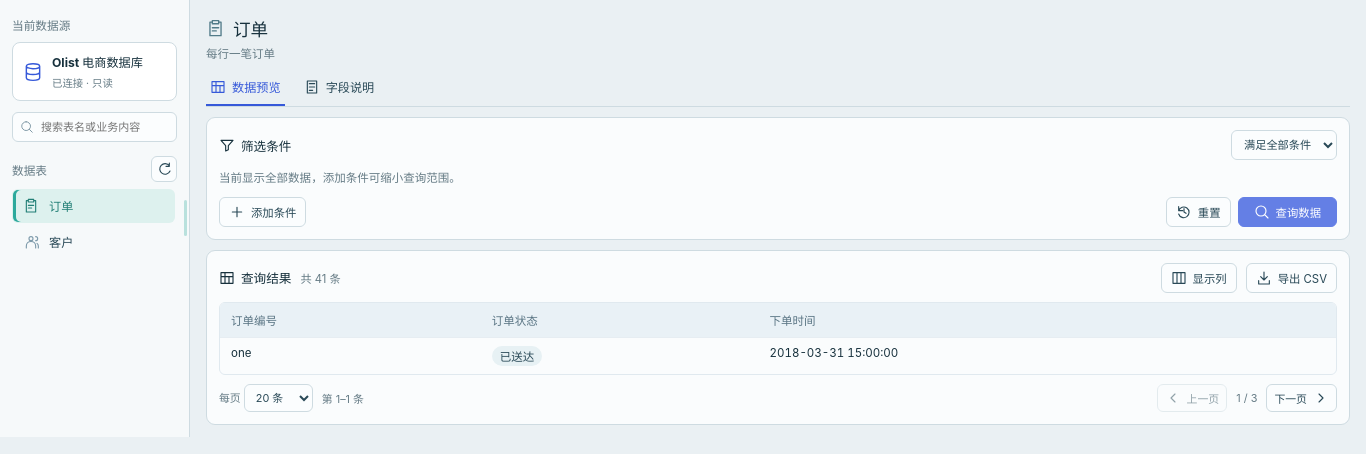
Test: 显示中文表名、字段与实际数据，不包含英文表标识和会话分析按钮
Expected: the text "one" is shown, [231, 346, 251, 360]
Expected: the text "已送达" is shown, [492, 346, 542, 366]
Click the tab "字段说明": (339, 88) [300, 70, 378, 106]
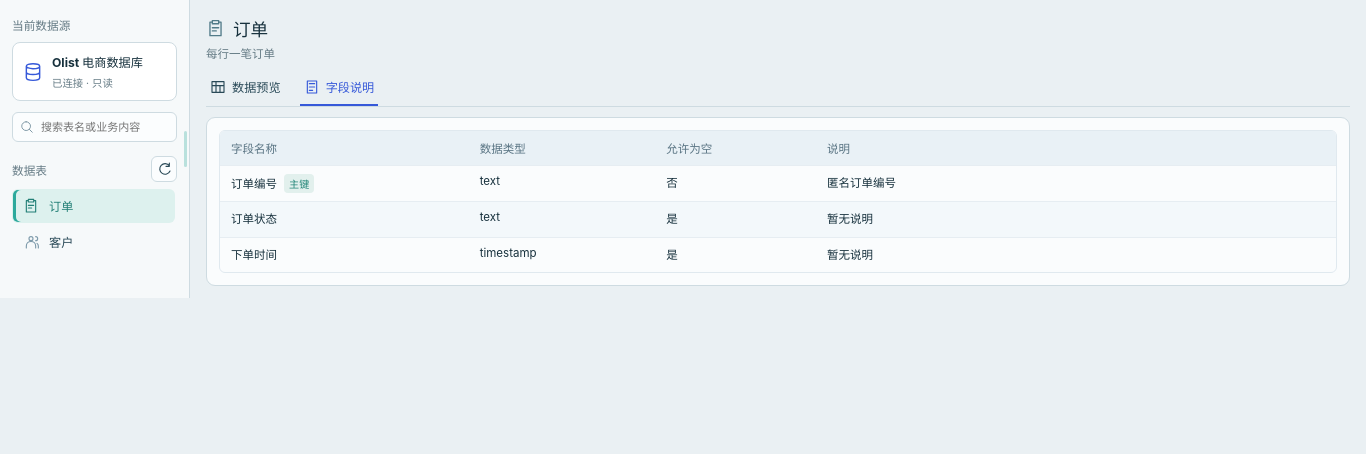
Result: the text "匿名订单编号" is shown at [816, 165, 1336, 201]
